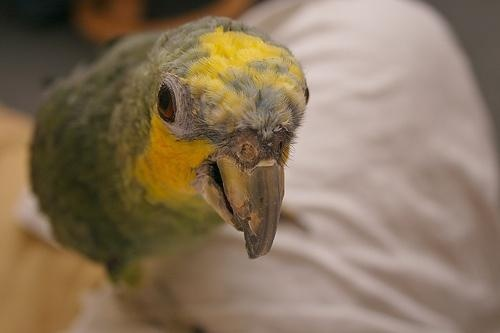bird: (29, 16, 312, 287)
